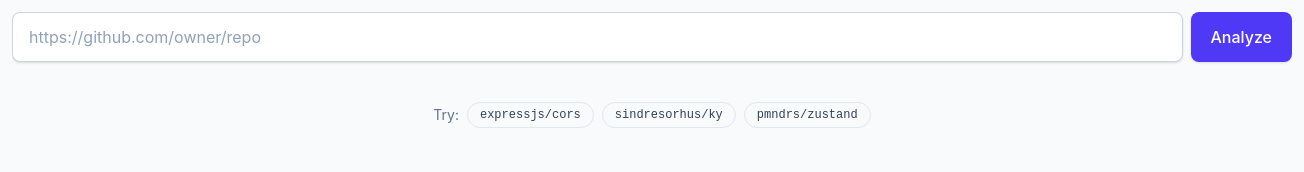
RepoInput (public) › shows the server error message when the API rejects the repo
Type "acme/missing" into the field named "github repository url". click: (597, 37)
box: [12,12,1182,62]
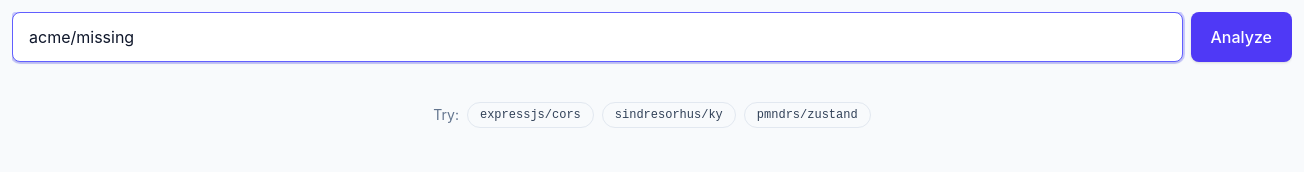
Click the button "Analyze". click: (1241, 37)
box: [1190,12,1292,62]
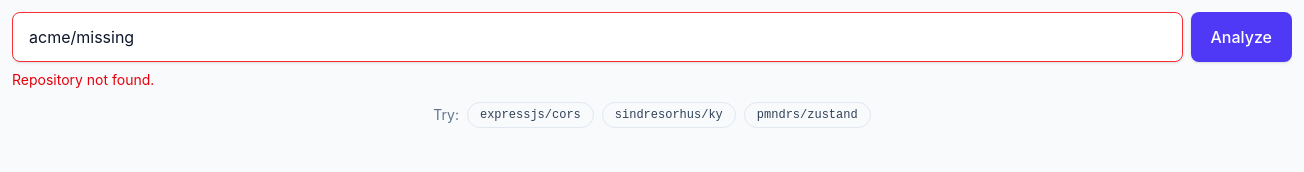
Check: the message reads "Repository not found.", box [12,71,154,88]
